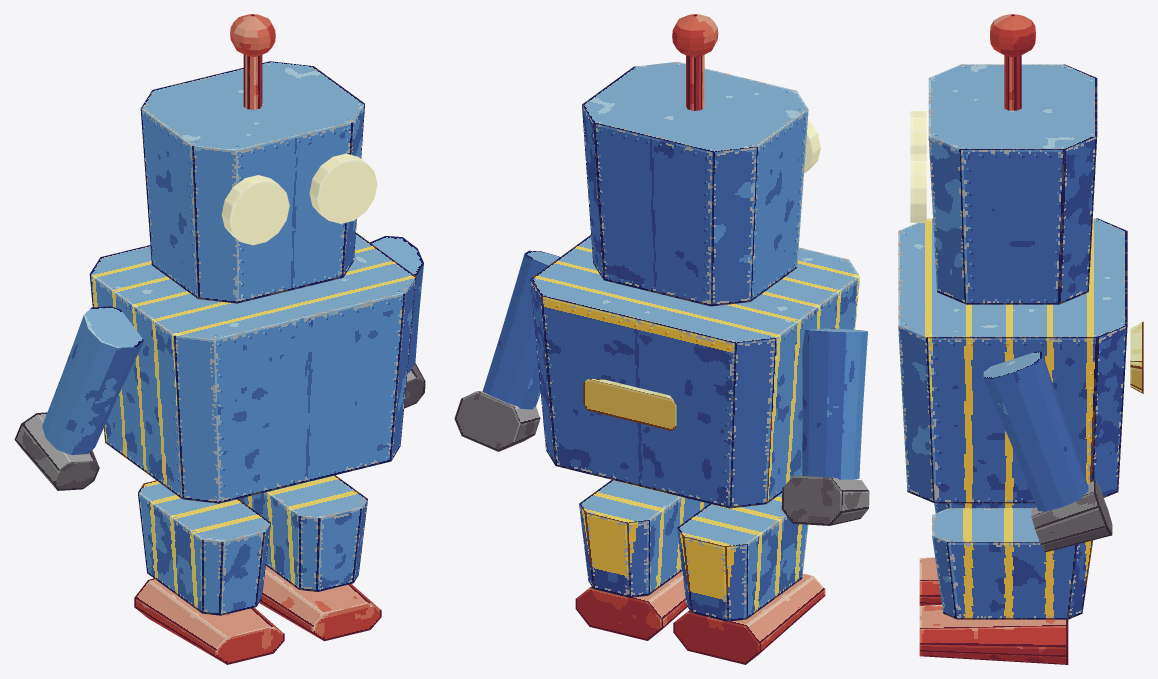
Rendered from robot.glb.
3 views of the same model, side by side, from view 1: azimuth 30°, elevation 25°; view 2: azimuth 150°, elevation 25°; view 3: azimuth 270°, elevation 25° (orthographic).
Parts seen in each view (by area): view 1: chest, head, leg-1, leg1, arm-1_m, foot-1, foot1, eye1, eye-1, hand-1, arm1_m, ball (+2 smaller); view 2: chest, head, leg-1, leg1, arm-1_m, foot-1, arm1_m, foot1, hand-1, hand1, key_bar, ball (+1 smaller); view 3: chest, head, leg1, arm1_m, foot1, hand1, ball, eye1, antenna, foot-1, key_bar, eye-1 (+1 smaller).
Boxes of the visible parts, bbox=[...] form: chest: bbox=[89, 232, 415, 503]; head: bbox=[140, 61, 364, 303]; leg-1: bbox=[138, 480, 270, 615]; leg1: bbox=[239, 475, 367, 591]; arm-1_m: bbox=[42, 306, 143, 454]; foot-1: bbox=[134, 578, 284, 664]; foot1: bbox=[259, 566, 381, 641]; eye1: bbox=[309, 153, 377, 223]; eye-1: bbox=[221, 175, 289, 245]; hand-1: bbox=[14, 412, 99, 490]; arm1_m: bbox=[370, 236, 423, 373]; ball: bbox=[230, 14, 275, 56]; chest: bbox=[530, 235, 859, 508]; head: bbox=[582, 61, 808, 306]; leg-1: bbox=[677, 493, 808, 621]; leg1: bbox=[579, 480, 709, 597]; arm-1_m: bbox=[802, 328, 867, 479]; foot-1: bbox=[673, 573, 825, 664]; arm1_m: bbox=[482, 250, 559, 409]; foot1: bbox=[575, 571, 687, 640]; hand-1: bbox=[781, 475, 869, 525]; hand1: bbox=[454, 391, 540, 451]; key_bar: bbox=[583, 379, 676, 430]; ball: bbox=[672, 14, 718, 57]; chest: bbox=[898, 218, 1127, 503]; head: bbox=[928, 64, 1097, 304]; leg1: bbox=[932, 508, 1092, 619]; arm1_m: bbox=[983, 351, 1088, 511]; foot1: bbox=[919, 604, 1068, 664]; hand1: bbox=[1031, 480, 1112, 552]; ball: bbox=[990, 14, 1035, 57]; eye1: bbox=[910, 154, 926, 222]; antenna: bbox=[1004, 55, 1021, 110]; foot-1: bbox=[919, 557, 941, 605]; key_bar: bbox=[1130, 321, 1143, 393]; eye-1: bbox=[910, 111, 926, 154].
Size of the model in its own units: 33.19 by 50 by 18.2.
Materials: 1 (1 with a texture image).
